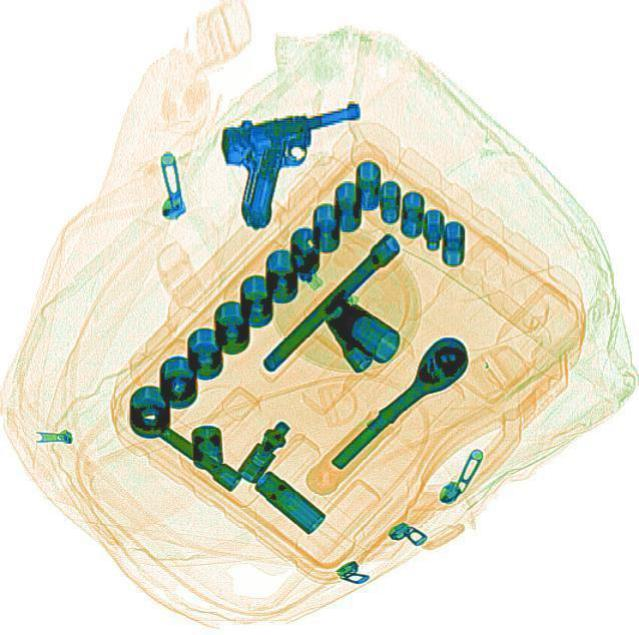Gun: (212, 89, 385, 230)
